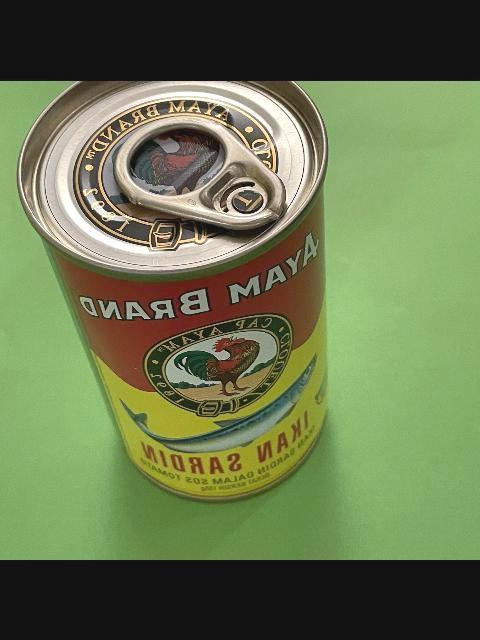foodcan: (14, 80, 334, 503)
